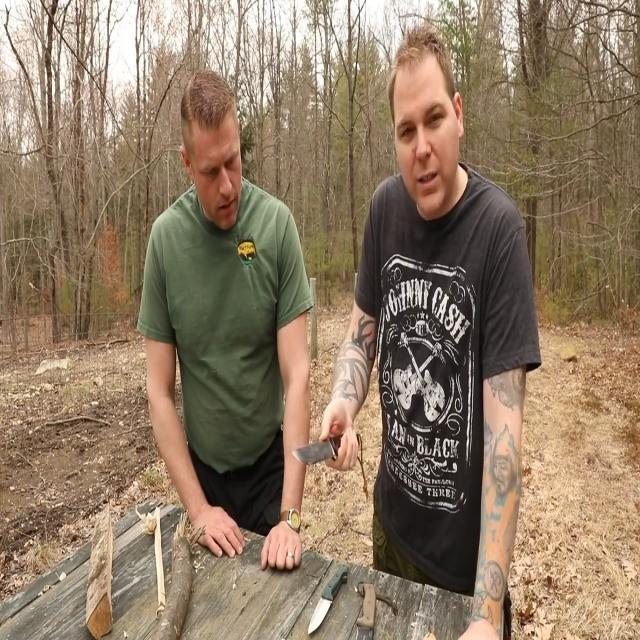knife: (308, 562, 350, 638), (291, 432, 341, 468)
